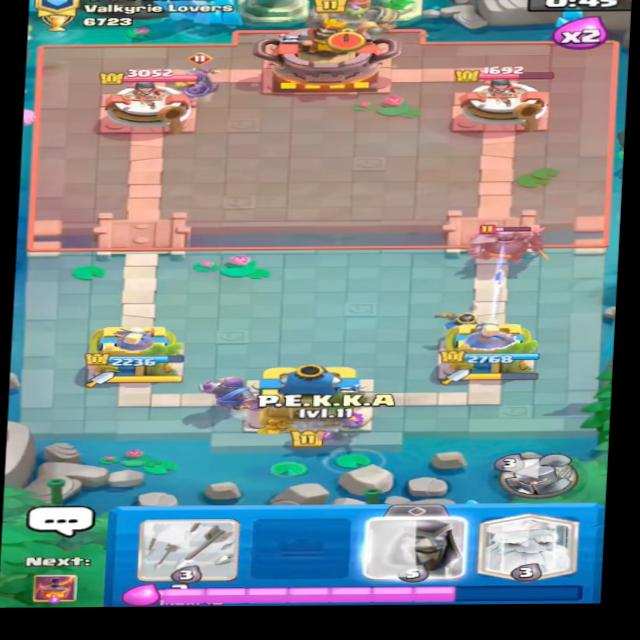evo-knight: (160, 52, 241, 101)
goblin-machine: (302, 0, 406, 45)
pekka: (466, 211, 556, 265)
